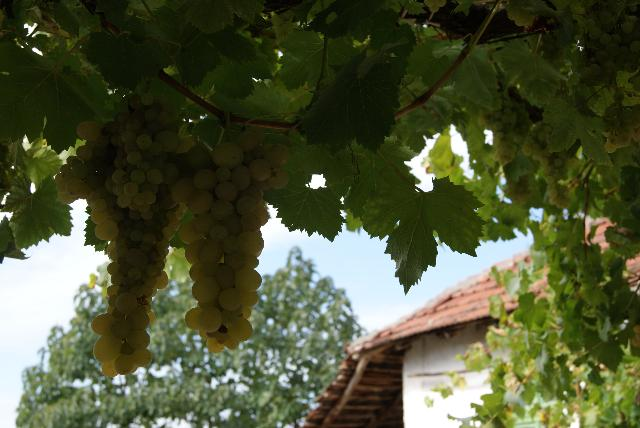grapes: (55, 121, 179, 376), (171, 128, 290, 354), (114, 92, 179, 211)
